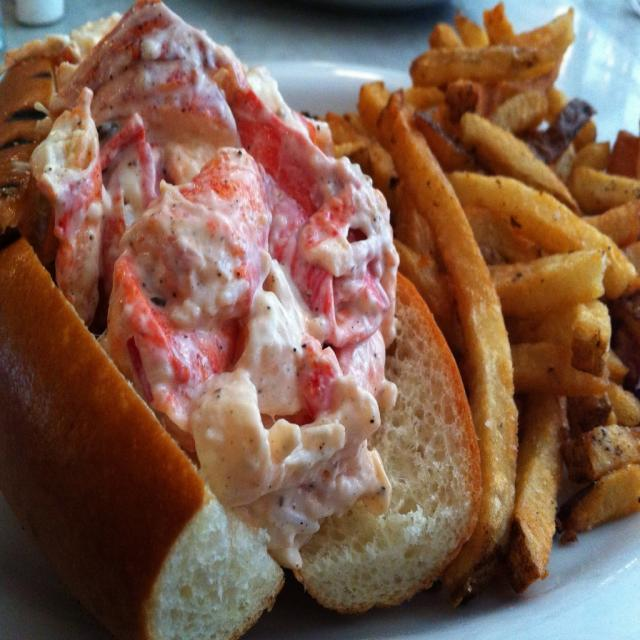Hot dog: (0, 0, 483, 639)
